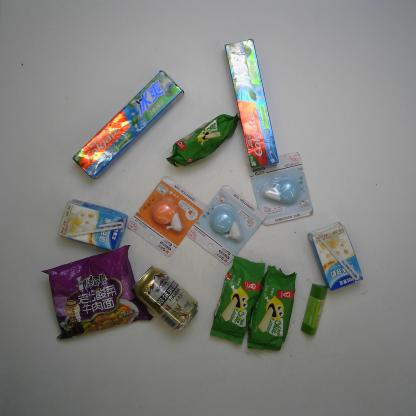Alcohol: (130, 264, 202, 336)
Dessert: (207, 254, 267, 347), (244, 262, 300, 354), (164, 112, 243, 170)
Instant Noodles: (39, 243, 154, 341)
Milk: (305, 220, 365, 292), (57, 195, 127, 253)
Personal Hygiene: (71, 70, 186, 180), (223, 36, 280, 170)
Stationery: (125, 174, 210, 257), (187, 182, 265, 270), (244, 152, 315, 228), (301, 282, 332, 338)
